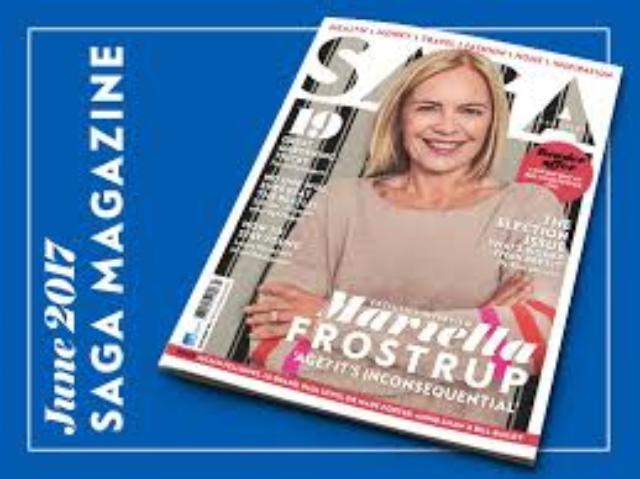cardboard paper: (158, 15, 618, 460)
